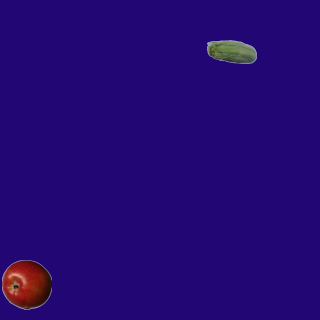Apple Braeburn: (1, 259, 51, 309)
Corn Husk: (206, 28, 256, 78)
